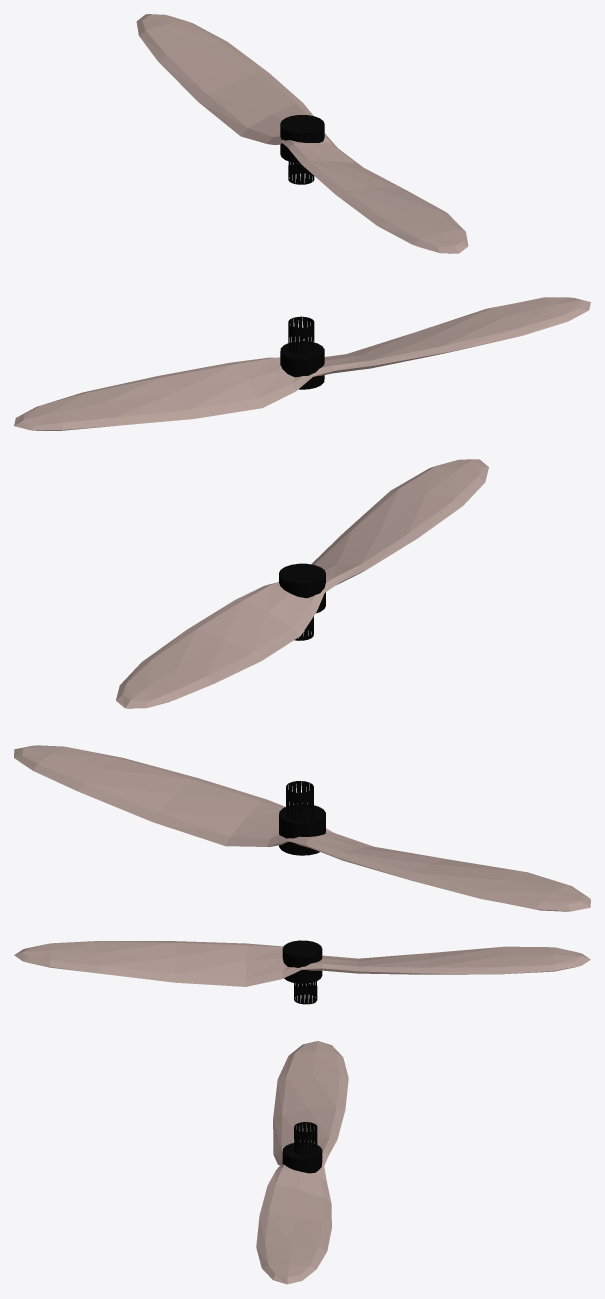
Rendered from propellers.dae.
The picture shows the model from 3 angles, top to bottom: view 1: azimuth 30°, elevation 25°; view 2: azimuth 150°, elevation 25°; view 3: azimuth 270°, elevation 25°; orthographic projection. The views are drawn at different scales.
Visible parts, largest first — view 1: Bonebraker_003, Bonebraker, Bonebraker_002, Bonebraker_001; view 2: Bonebraker_003, Bonebraker, Bonebraker_002, Bonebraker_001; view 3: Bonebraker, Bonebraker_003, Bonebraker_001, Bonebraker_002.
Part boxes in pixels (box(x1,y1,x2,y2)): Bonebraker_003: box(14, 297, 590, 430); Bonebraker: box(136, 14, 468, 253); Bonebraker_002: box(280, 316, 324, 389); Bonebraker_001: box(280, 115, 324, 184); Bonebraker_003: box(14, 745, 590, 911); Bonebraker: box(116, 459, 488, 708); Bonebraker_002: box(279, 781, 325, 855); Bonebraker_001: box(279, 563, 325, 640); Bonebraker: box(14, 941, 590, 986); Bonebraker_003: box(256, 1041, 348, 1284); Bonebraker_001: box(282, 940, 322, 1004); Bonebraker_002: box(282, 1122, 322, 1173).
Bounding box in the file's own units: 0.3244 × 0.3248 × 0.144.
